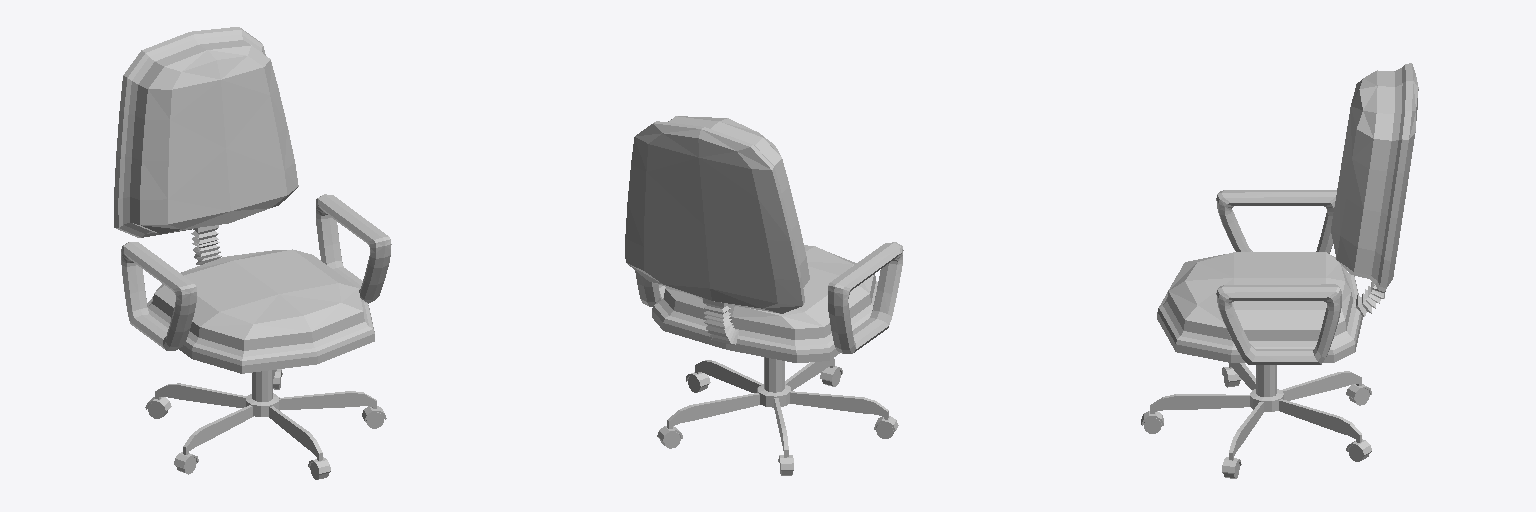
The model's file is OfficeChair.obj.
The picture shows the model from 3 angles: view 1: azimuth 30°, elevation 25°; view 2: azimuth 150°, elevation 25°; view 3: azimuth 270°, elevation 25°; orthographic projection.
Parts seen in each view (by area): view 1: OfficeChair; view 2: OfficeChair; view 3: OfficeChair.
Boxes of the visible parts, <box> form: OfficeChair: <box>114,27,391,479</box>; OfficeChair: <box>625,116,903,475</box>; OfficeChair: <box>1141,63,1418,478</box>.
Bounding box in the file's own units: 0.7217 × 1.13 × 0.8072.